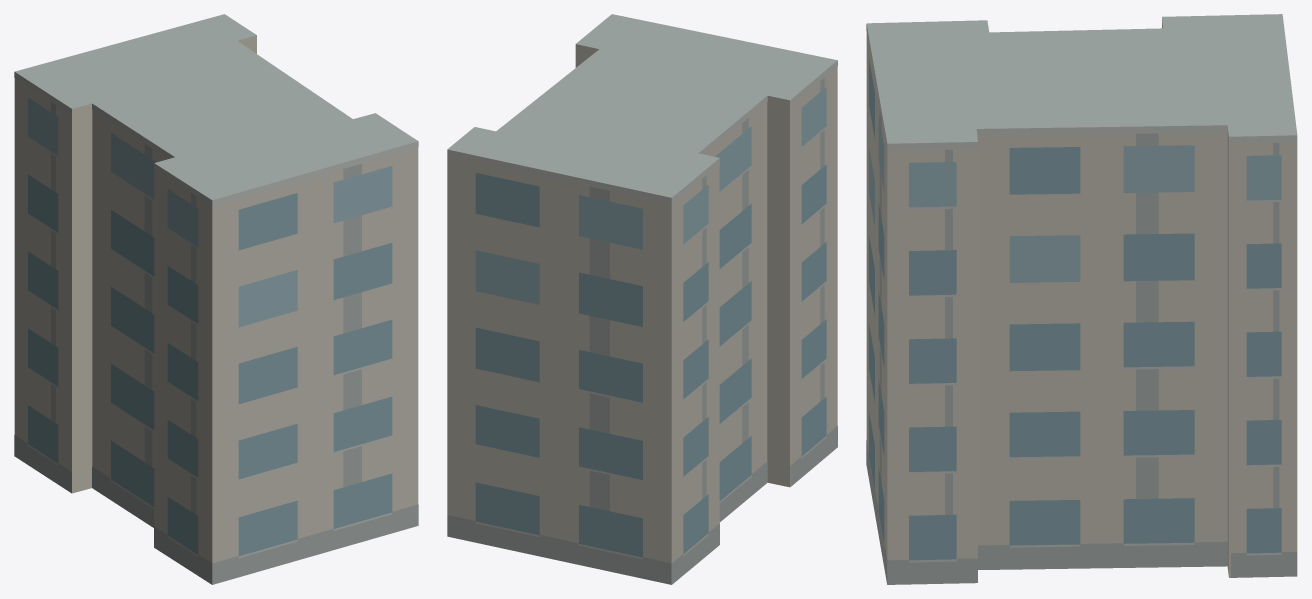
Rendered from survey-upis-32881801.glb.
3 renders of one model, left to right at view 1: azimuth 30°, elevation 25°; view 2: azimuth 150°, elevation 25°; view 3: azimuth 270°, elevation 25°, orthographic. The views are drawn at different scales.
Visible parts, largest first — view 1: survey-upis-32881801.tmp; view 2: survey-upis-32881801.tmp; view 3: survey-upis-32881801.tmp.
Part boxes in pixels (x1,y1,x2,y2): survey-upis-32881801.tmp: (14, 14, 418, 584); survey-upis-32881801.tmp: (447, 14, 837, 584); survey-upis-32881801.tmp: (866, 14, 1297, 584).
Bounding box in the file's own units: 9.47 × 15 × 13.29.
